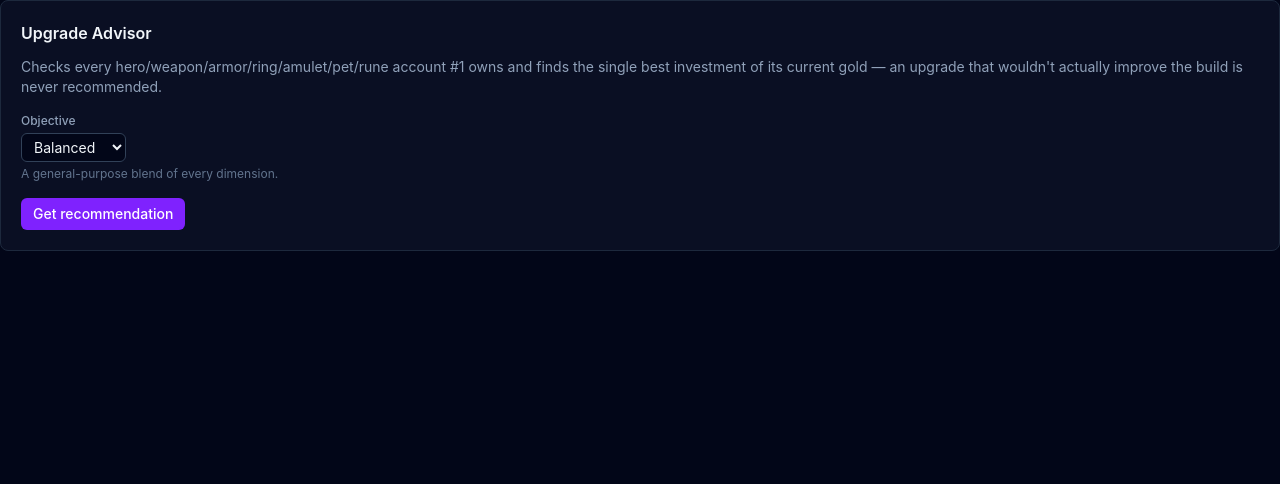
UpgradeAdvisorPage › requests upgrade advice for the selected account and objective
The image size is (1280, 484).
Select "Farming" in the dropdown labelled "Objective" at (74, 148), box x1=21 y1=133 x2=126 y2=162
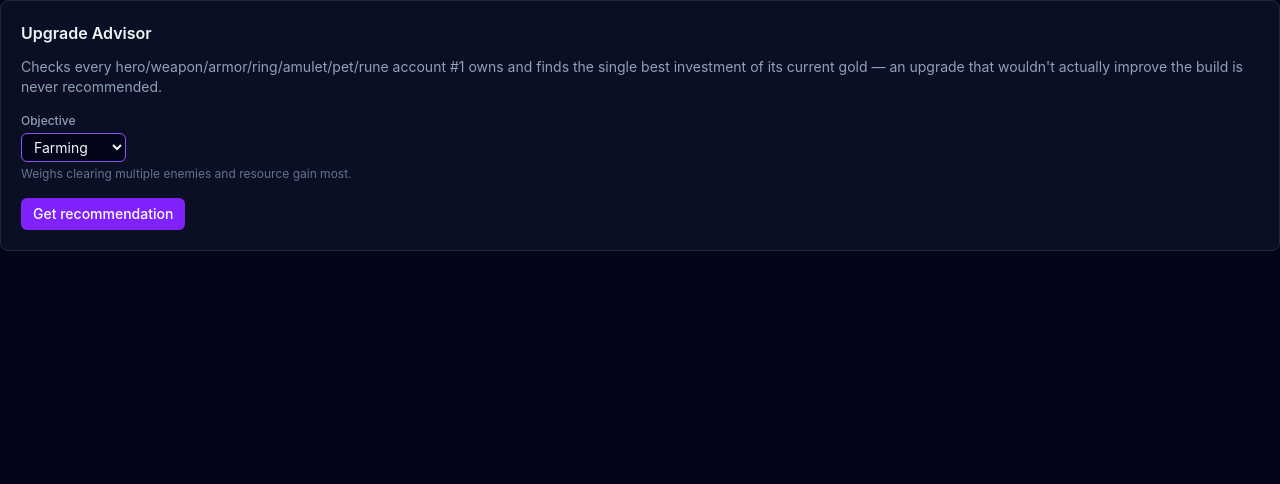
Click the button "Get recommendation" at (103, 214), box x1=21 y1=198 x2=185 y2=230
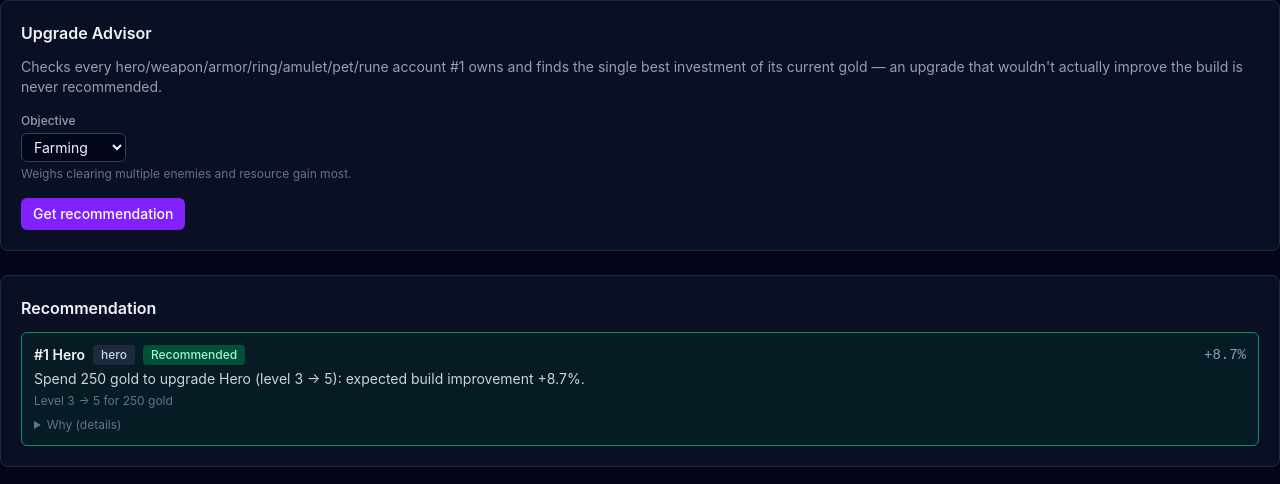
Now the text "Spend 250 gold to upgrade Hero (level 3 -> 5): expected build improvement +8.7%." is shown, box x1=34 y1=370 x2=585 y2=387
Now the text "Recommended" is shown, box x1=143 y1=345 x2=245 y2=365
Now the text "Level 3 → 5 for 250 gold" is shown, box x1=34 y1=393 x2=173 y2=408
